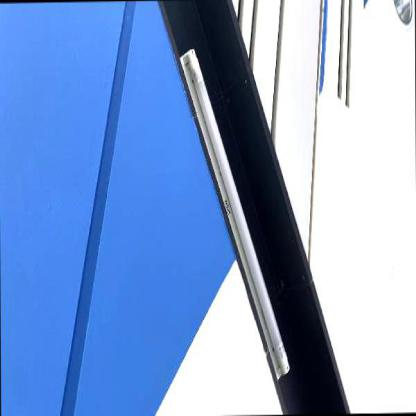light_off: (175, 37, 296, 385)
